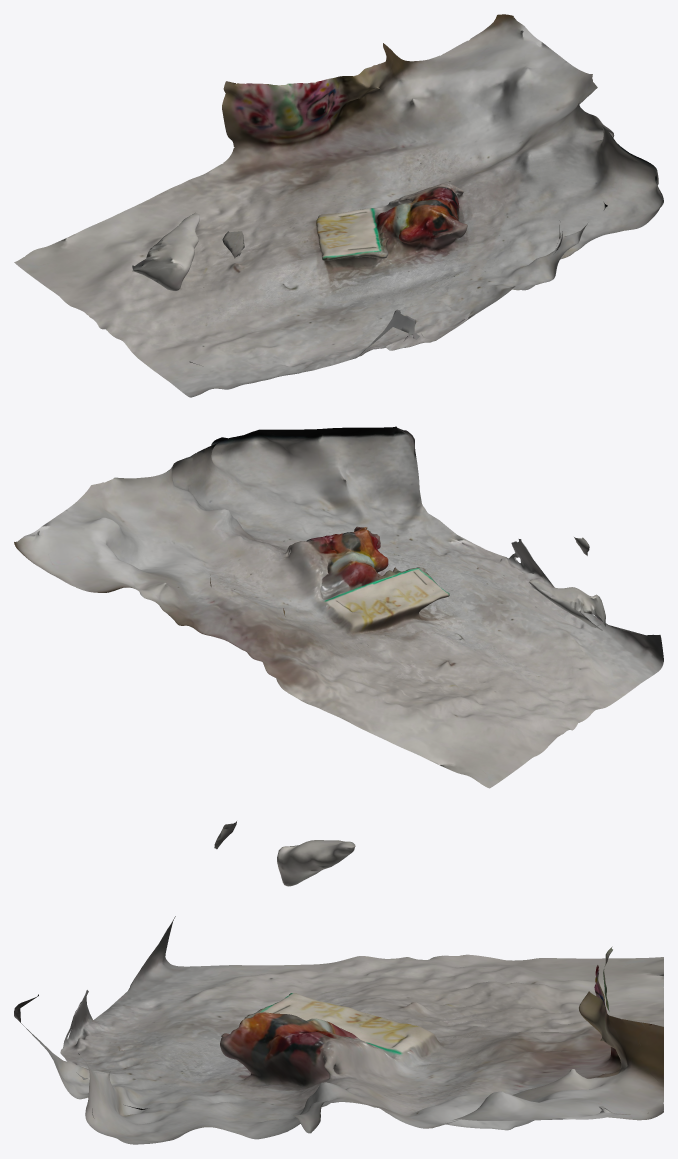
3 views of the same model, one above another, from view 1: azimuth 30°, elevation 25°; view 2: azimuth 150°, elevation 25°; view 3: azimuth 270°, elevation 25° (orthographic). The views are drawn at different scales.
Bounding box in the file's own units: 2.16 × 0.5711 × 1.77.
Materials: 1 (1 with a texture image).
